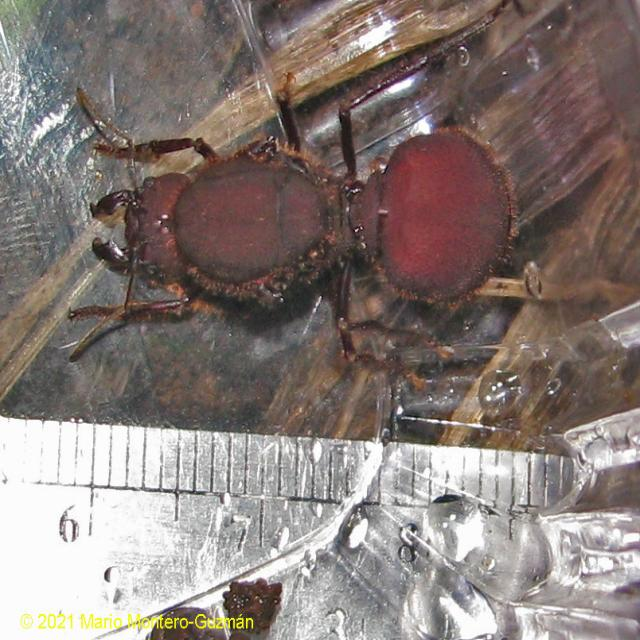Alive-Female-Dealate: (67, 0, 519, 391)
